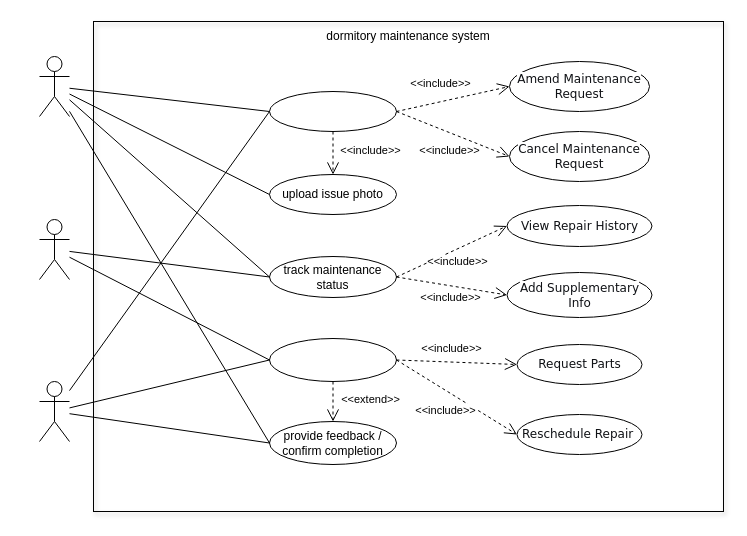
This 747x536 diagram has some shape labels left out. The shapes that lost their labels are listed below. From the top down, each one's centre as x and y in pixels, then its label:
At (54,86): "student".
At (332,111): "submit maintenance request".
At (54,249): "maintenance staff".
At (332,360): "update repair progress".
At (54,411): "system admin".
